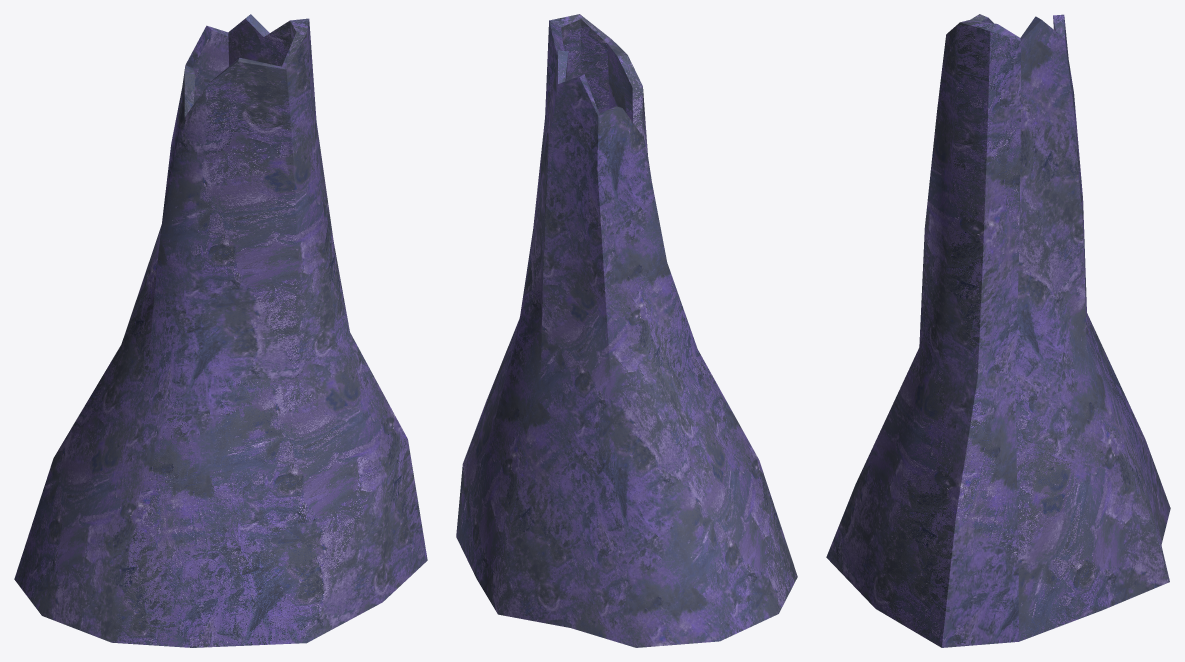
Rendered from AlienGrove_Vent2_SM.fbx.
3 views of the same model, side by side, from view 1: azimuth 30°, elevation 25°; view 2: azimuth 150°, elevation 25°; view 3: azimuth 270°, elevation 25° (orthographic). The views are drawn at different scales.
Parts seen in each view (by area): view 1: AlienGrove_Vent2_SM; view 2: AlienGrove_Vent2_SM; view 3: AlienGrove_Vent2_SM.
Part boxes in pixels (x1,y1,x2,y2): AlienGrove_Vent2_SM: (14,14,427,647); AlienGrove_Vent2_SM: (456,14,797,647); AlienGrove_Vent2_SM: (826,14,1170,647).
Size of the model in its own units: 402 by 605 by 332.
